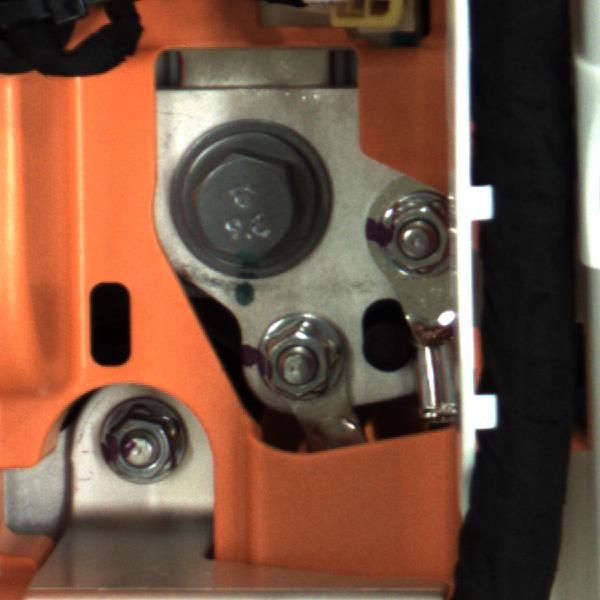nut_b: (183, 142, 321, 270)
screw_s: (94, 395, 176, 494), (256, 317, 347, 400), (378, 188, 448, 276)
